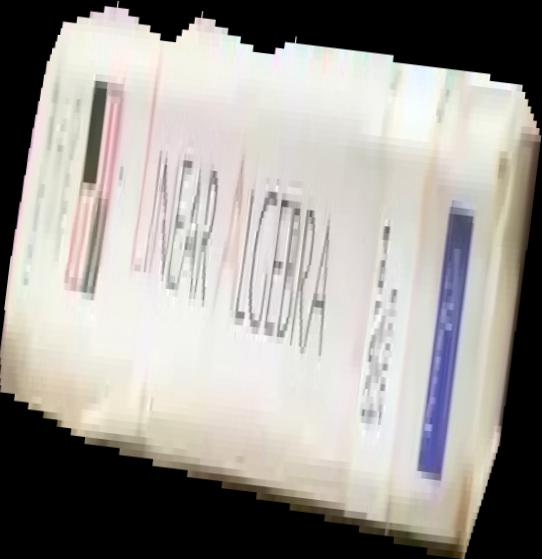flat: (1, 1, 542, 559)
